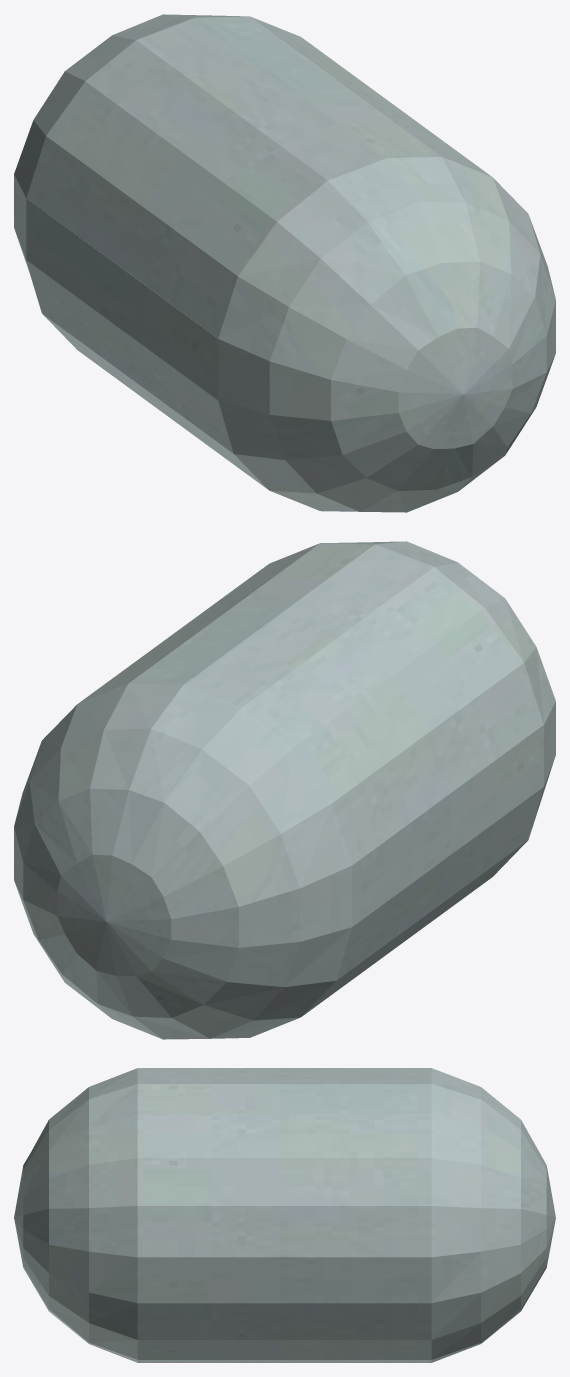
Rendered from zb014-geode.glb.
The picture shows the model from 3 angles, top to bottom: view 1: azimuth 30°, elevation 25°; view 2: azimuth 150°, elevation 25°; view 3: azimuth 270°, elevation 25°; orthographic projection. The views are drawn at different scales.
Parts seen in each view (by area): view 1: Node; view 2: Node; view 3: Node.
Part boxes in pixels (x1,y1,x2,y2): Node: [14, 14, 555, 512]; Node: [14, 541, 555, 1039]; Node: [14, 1068, 555, 1362].
Bounding box in the file's own units: 0.0474 × 0.048 × 0.0881.
1 material, 1 textured.
